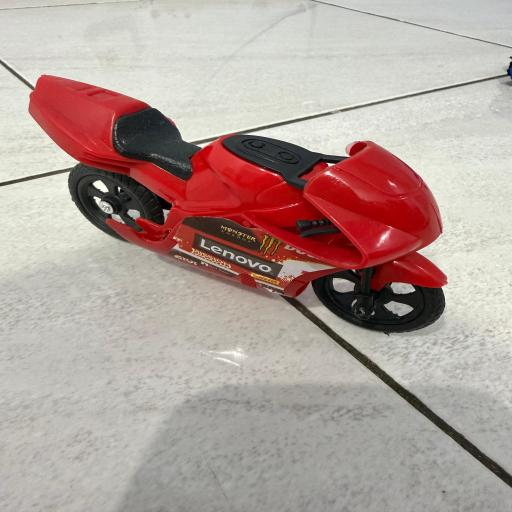motor-merah: (25, 66, 450, 339)
